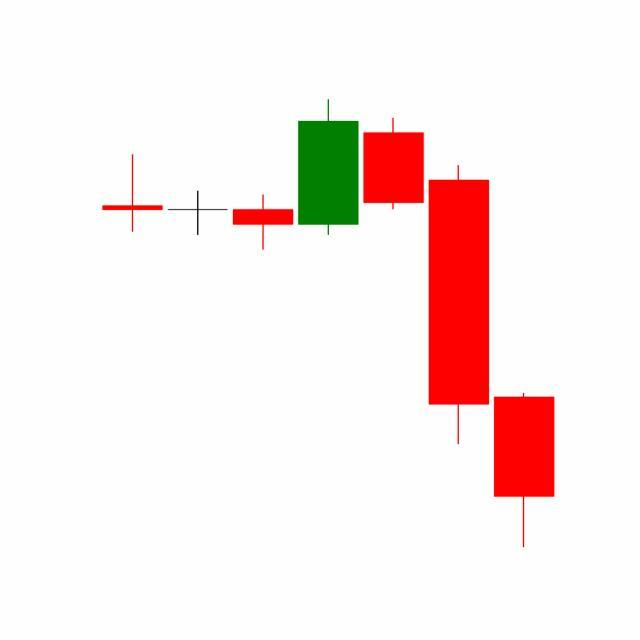Hikkake Pattern: (165, 100, 492, 450)
